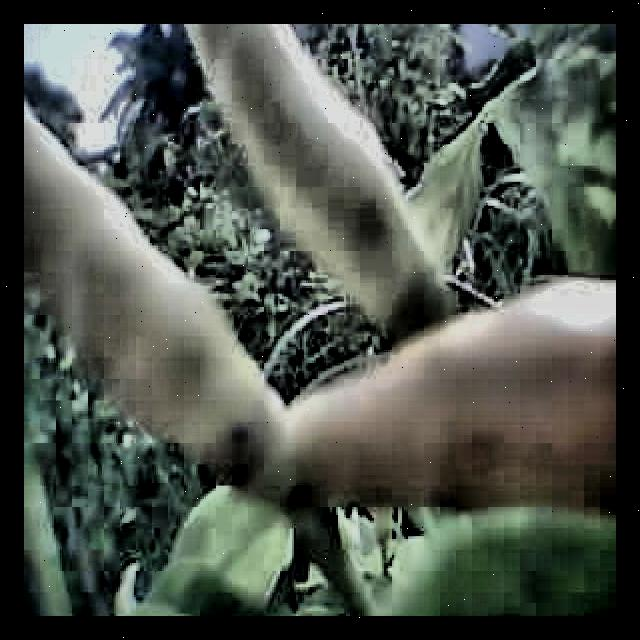Cabai: (283, 282, 616, 503)
